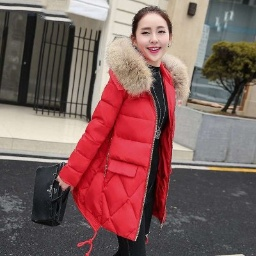face: (132, 4, 173, 63)
